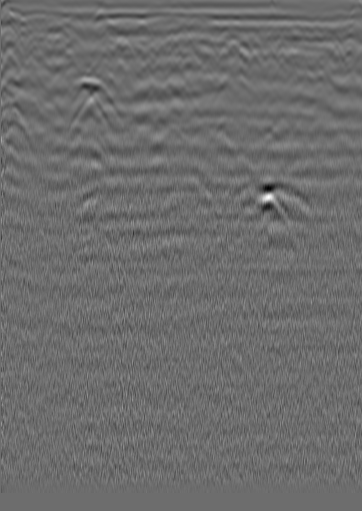가스: (64, 179, 112, 224)
상수: (335, 35, 355, 55)
오수: (37, 41, 57, 61)
우수: (224, 34, 244, 54)
